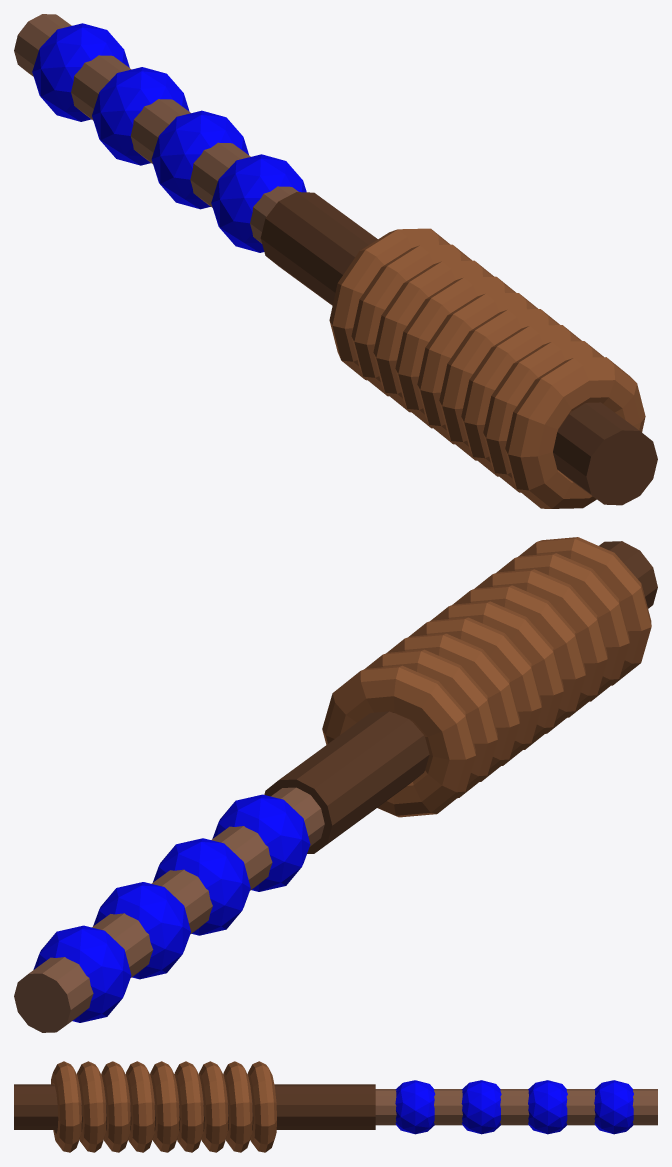
File: Wand 19.glb
The picture shows the model from 3 angles, top to bottom: view 1: azimuth 30°, elevation 25°; view 2: azimuth 150°, elevation 25°; view 3: azimuth 270°, elevation 25°; orthographic projection. The views are drawn at different scales.
Visible parts, largest first — view 1: GeneratedWand; view 2: GeneratedWand; view 3: GeneratedWand.
Part boxes in pixels (<box>): GeneratedWand: <box>14,14,657,508</box>; GeneratedWand: <box>14,537,657,1032</box>; GeneratedWand: <box>14,1061,657,1152</box>.
Size of the model in its own units: 0.0709 by 0.0714 by 0.4996.
